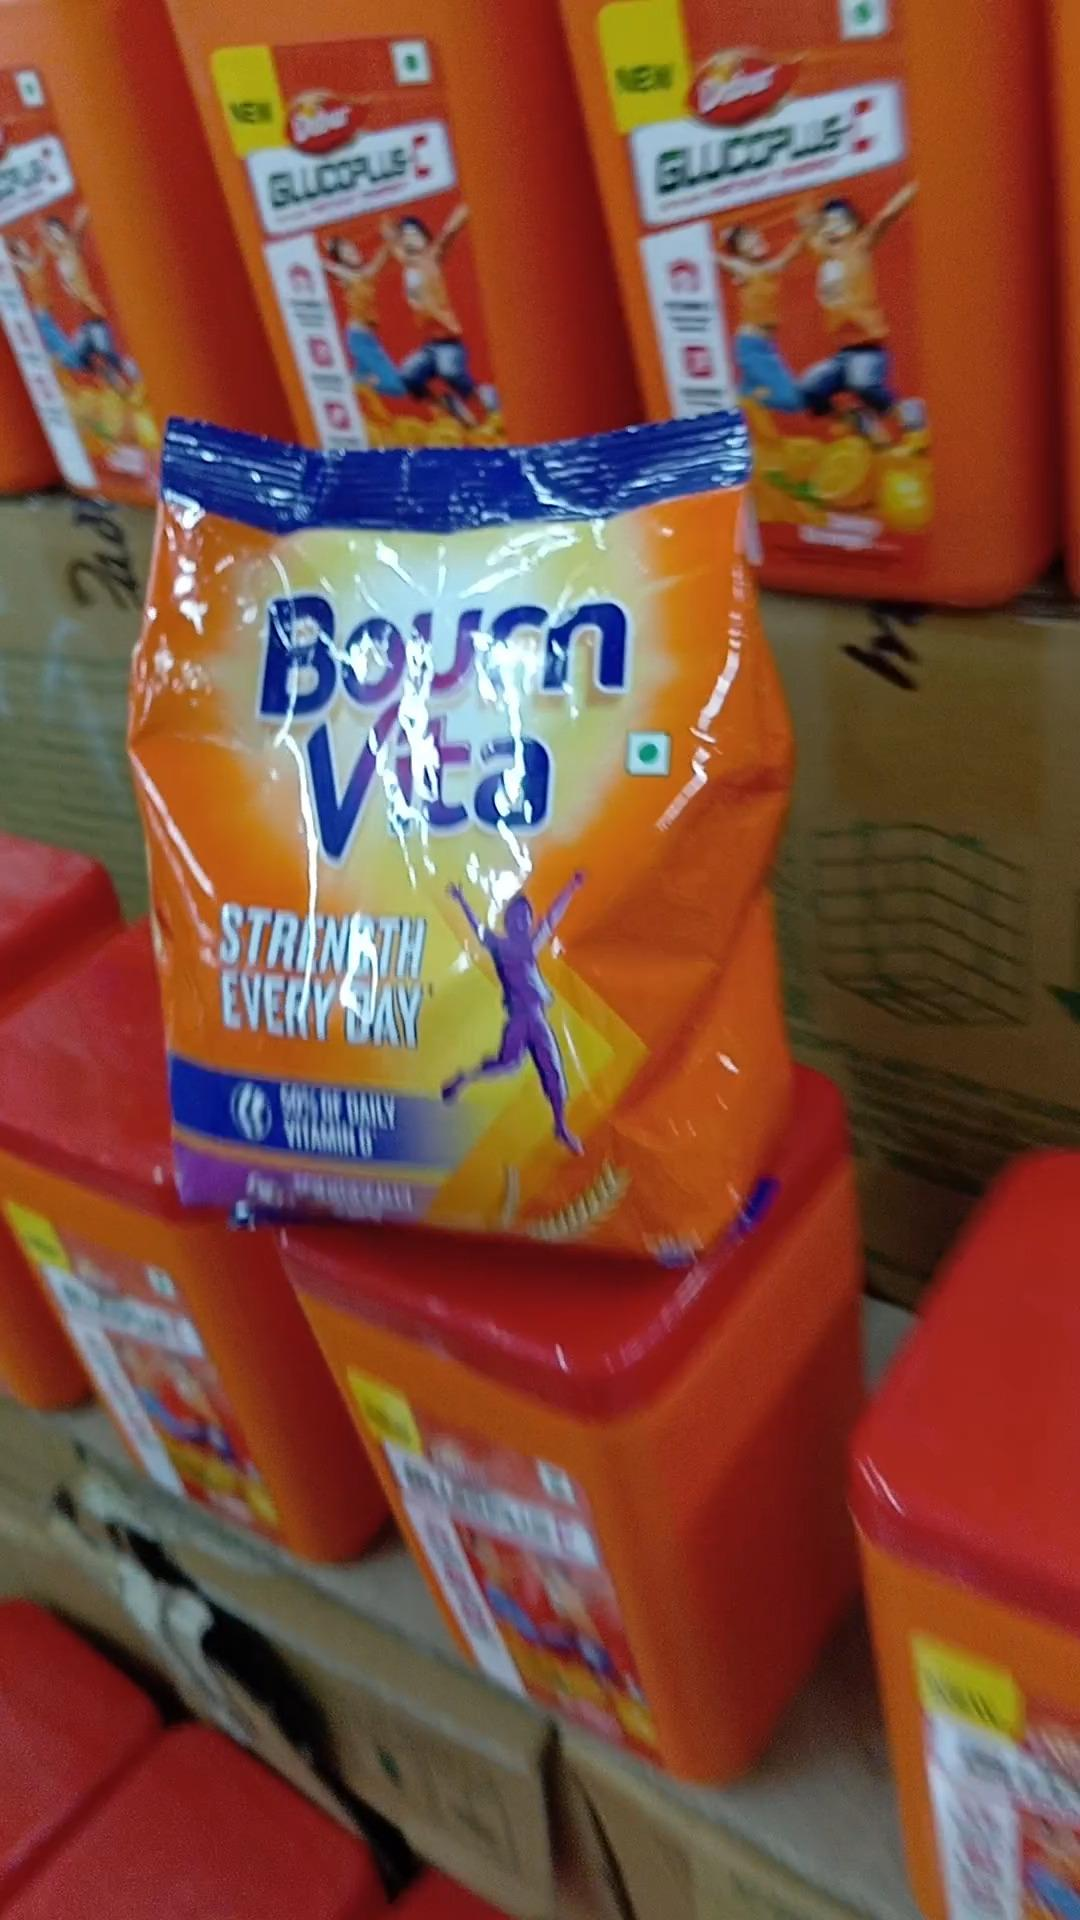BOURN_VITA_500_G_POUCH: (140, 400, 732, 1258)
